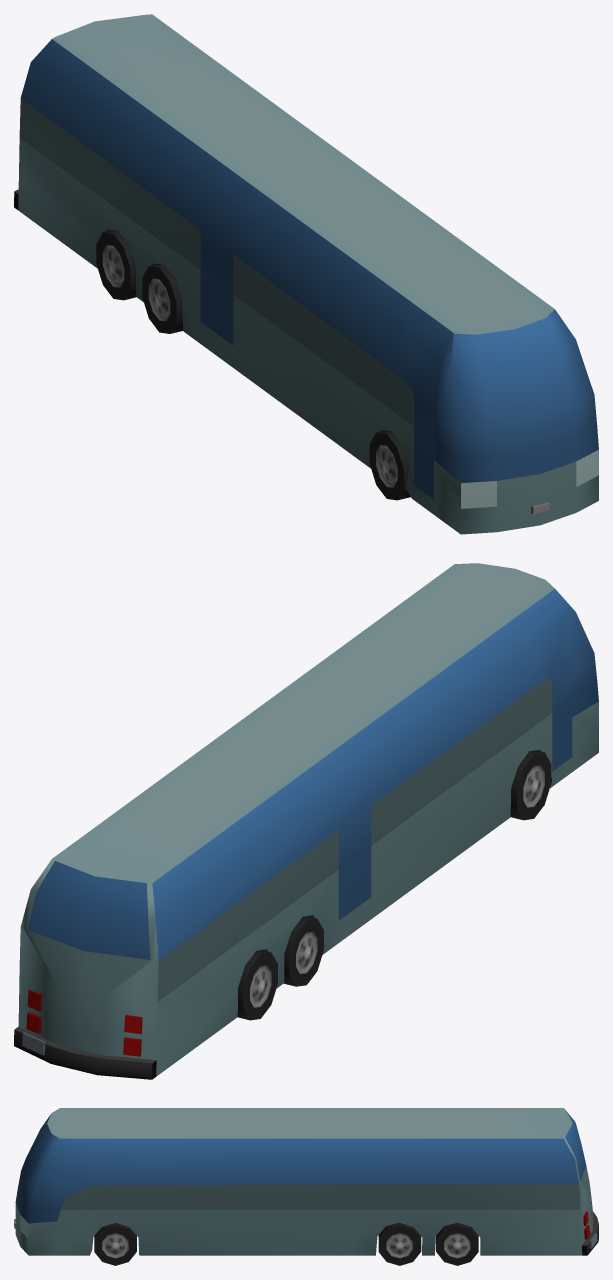
File: vehicles-buses-trains-coach-bus_v1.glb
The picture shows the model from 3 angles, top to bottom: view 1: azimuth 30°, elevation 25°; view 2: azimuth 150°, elevation 25°; view 3: azimuth 270°, elevation 25°; orthographic projection. The views are drawn at different scales.
Parts seen in each view (by area): view 1: Coach Bus.001, Coach Bus; view 2: Coach Bus.001, Coach Bus; view 3: Coach Bus.001, Coach Bus.
Part boxes in pixels (x1,y1,x2,y2): Coach Bus.001: (14,14,598,534); Coach Bus: (20,39,598,499); Coach Bus.001: (14,563,598,1079); Coach Bus: (27,589,598,1007); Coach Bus.001: (14,1108,598,1265); Coach Bus: (15,1111,586,1258).
Bounding box in the file's own units: 2.44 × 2.94 × 13.
